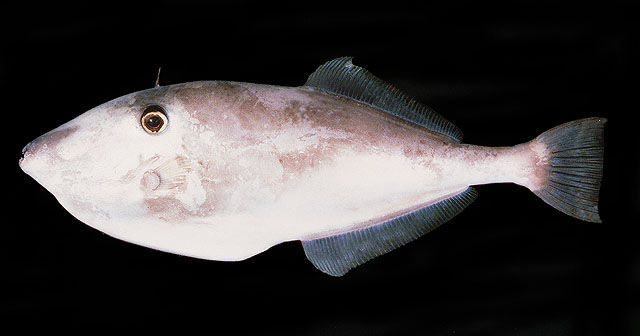fish: (22, 56, 608, 278)
